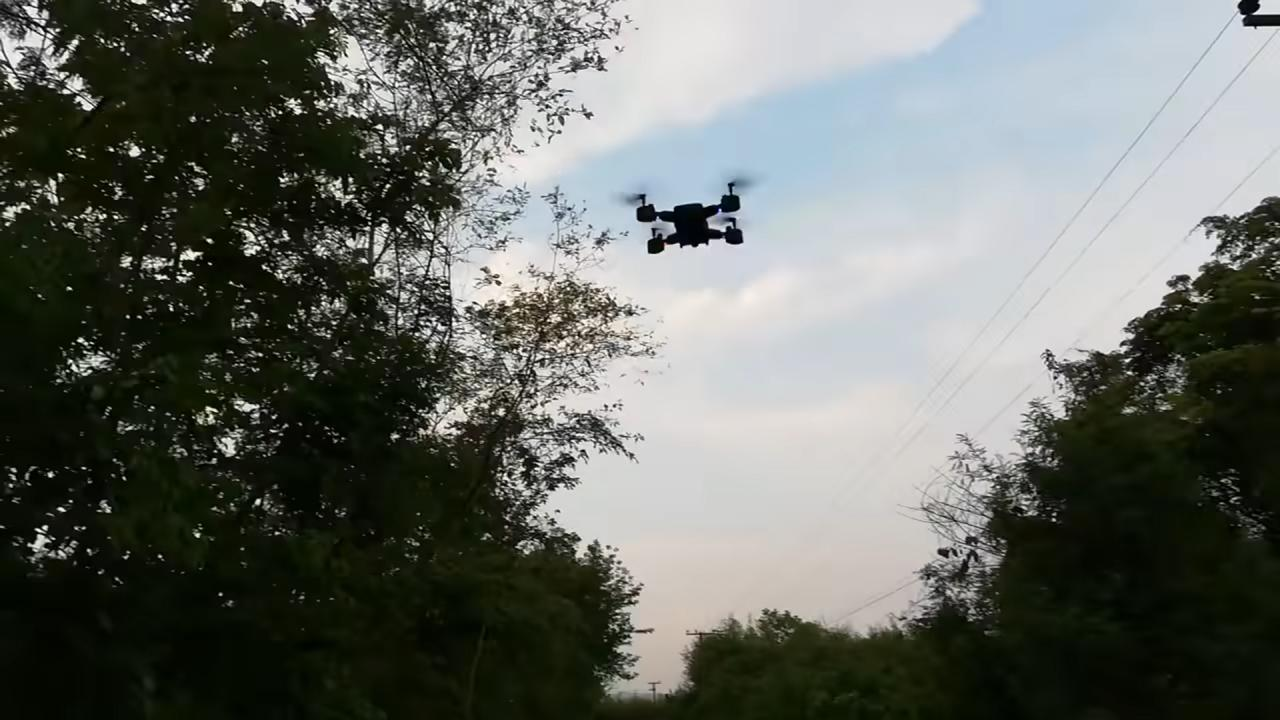Drone: (604, 156, 778, 265)
